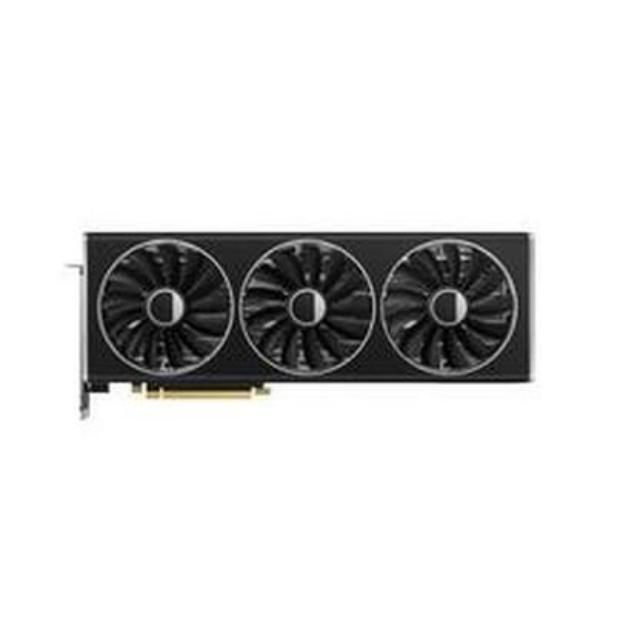GPU: (76, 228, 538, 397)
